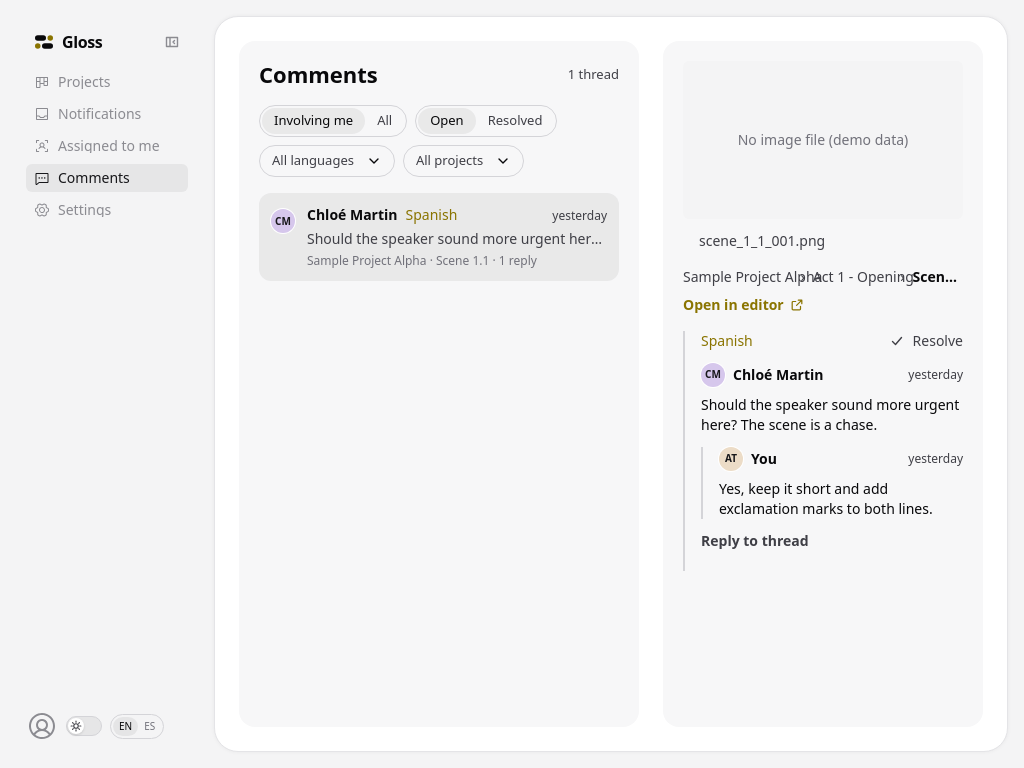
Scenario: Comments page › gives workers only their threads, with no option
Click the button named "Open user menu" at (42, 726), box [26,710,58,742]
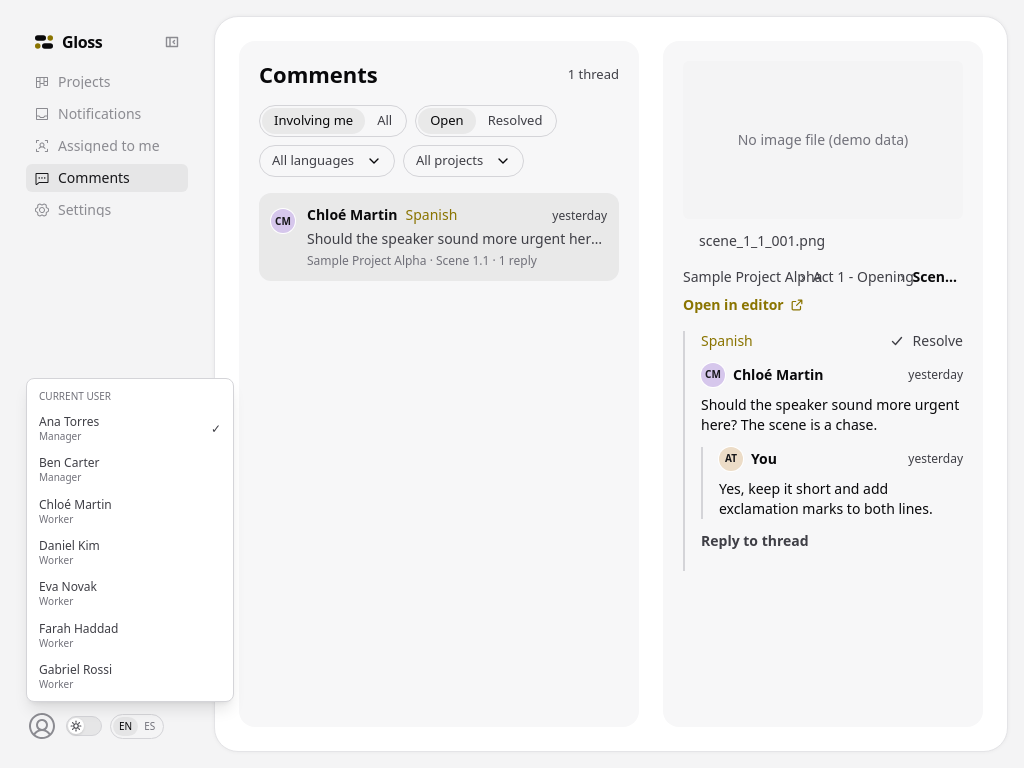
Click the menu item "Daniel Kim Worker" at (69, 552), box [39,537,100,567]
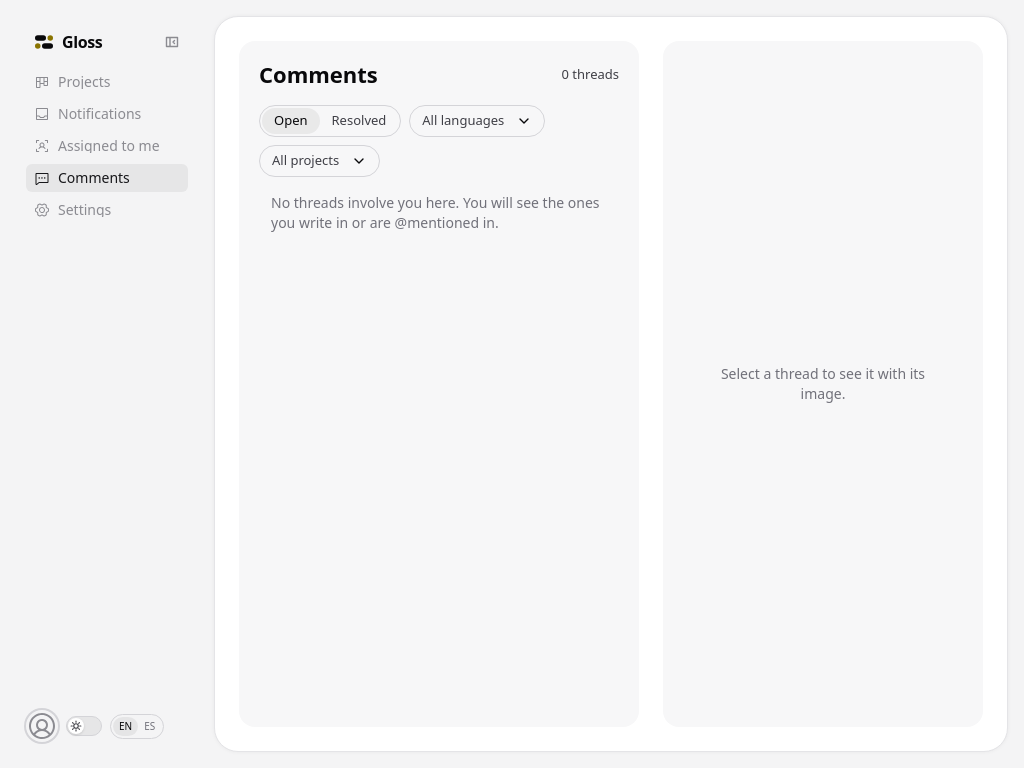
Expected: the button "Should the speaker sound more urgent here? The scene is a chase." is gone
Click the radio button labelled "Resolved" at (359, 120), box [320,108,398,134]
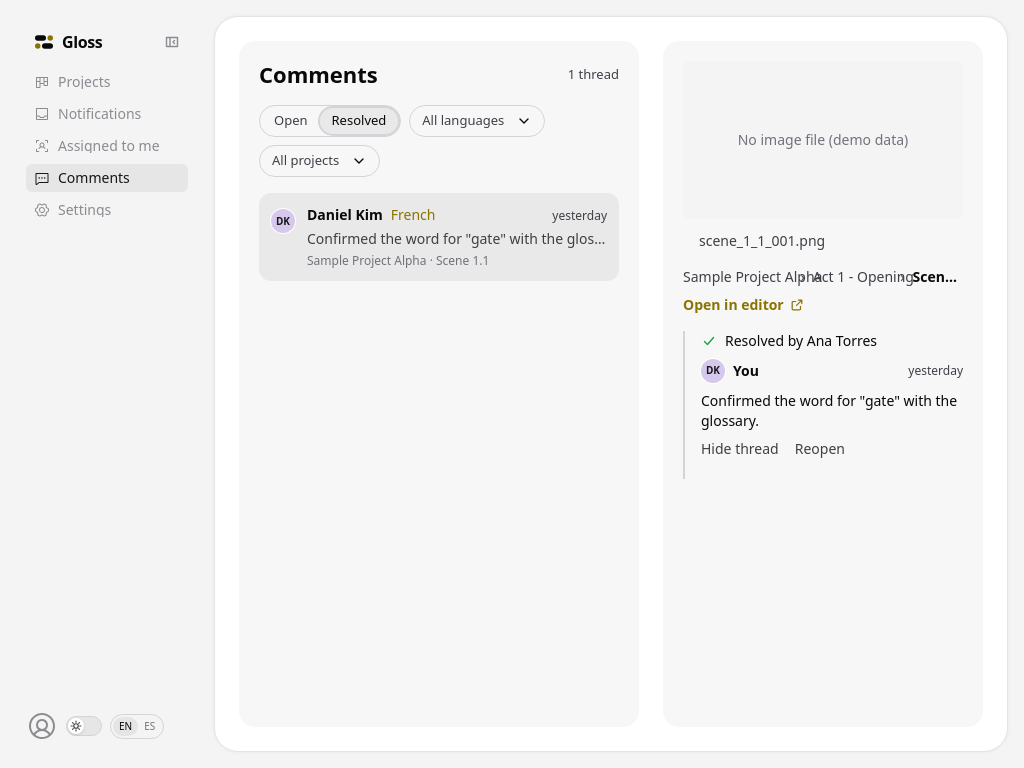
Expected: the text "Confirmed the word for \"gate\" with the glossary." below "1 thread" is shown, [307,228,625,248]
